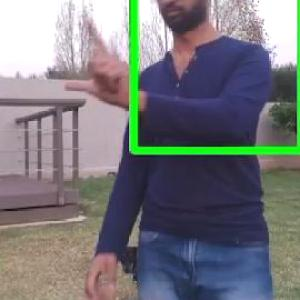land_hand: (50, 16, 144, 106)
